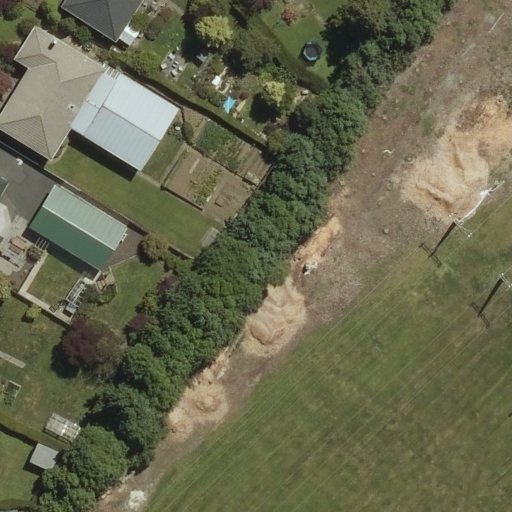DT: (439, 209, 475, 240), (485, 261, 512, 293)
